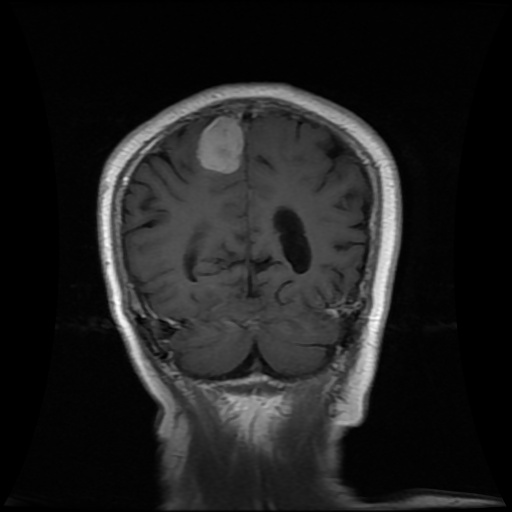meningioma: (198, 115, 244, 173)
